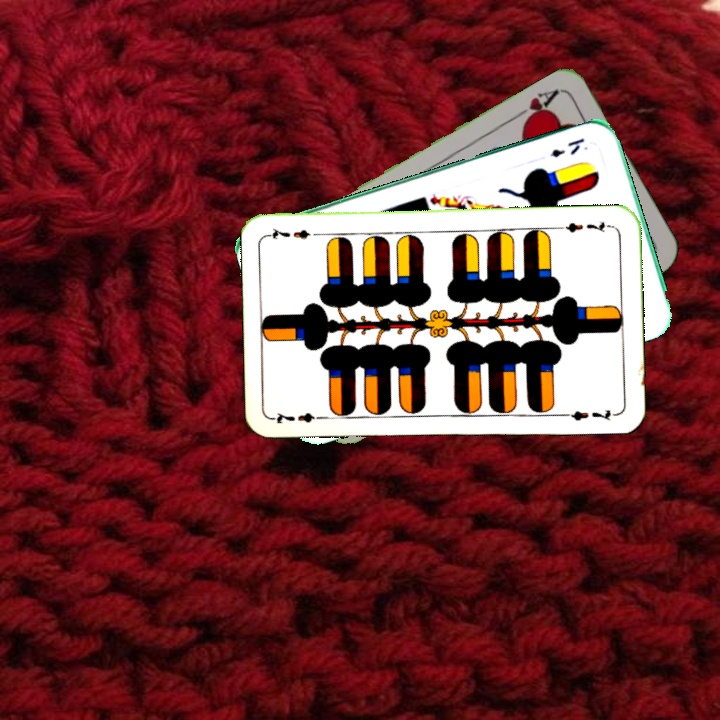E7: (270, 408, 329, 427), (556, 217, 615, 235)
EK: (547, 133, 587, 161)
HA: (509, 85, 562, 128)
